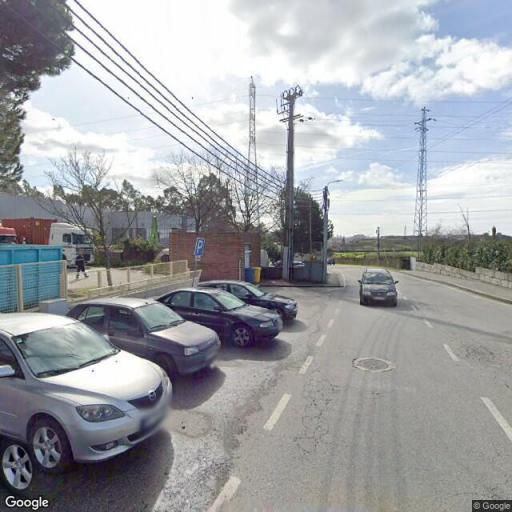mono_7: (274, 83, 304, 279)
ss_1: (410, 105, 438, 236)
ss_3: (242, 75, 262, 226)
